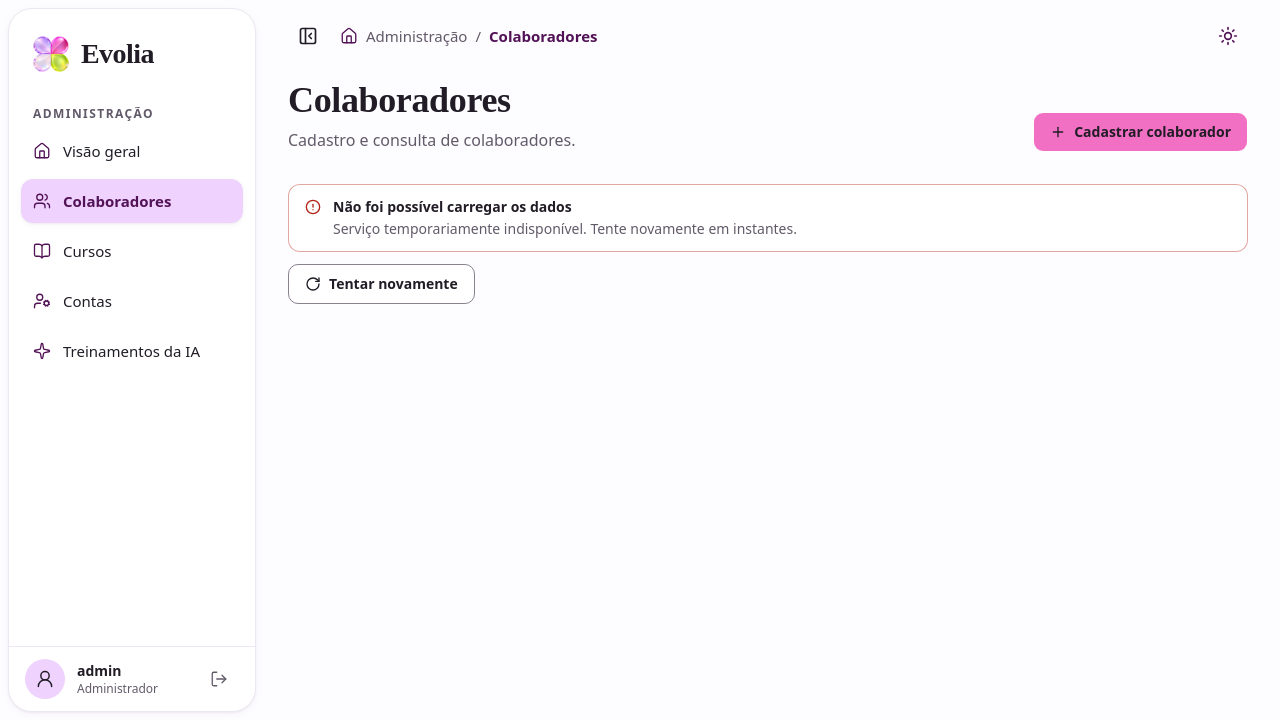
listagem › mostra estado vazio e erro com nova tentativa
Expected: the message shows "temporariamente indisponível", [333, 219, 797, 238]
Click the button "Tentar novamente" at (381, 284), box [288, 264, 475, 304]
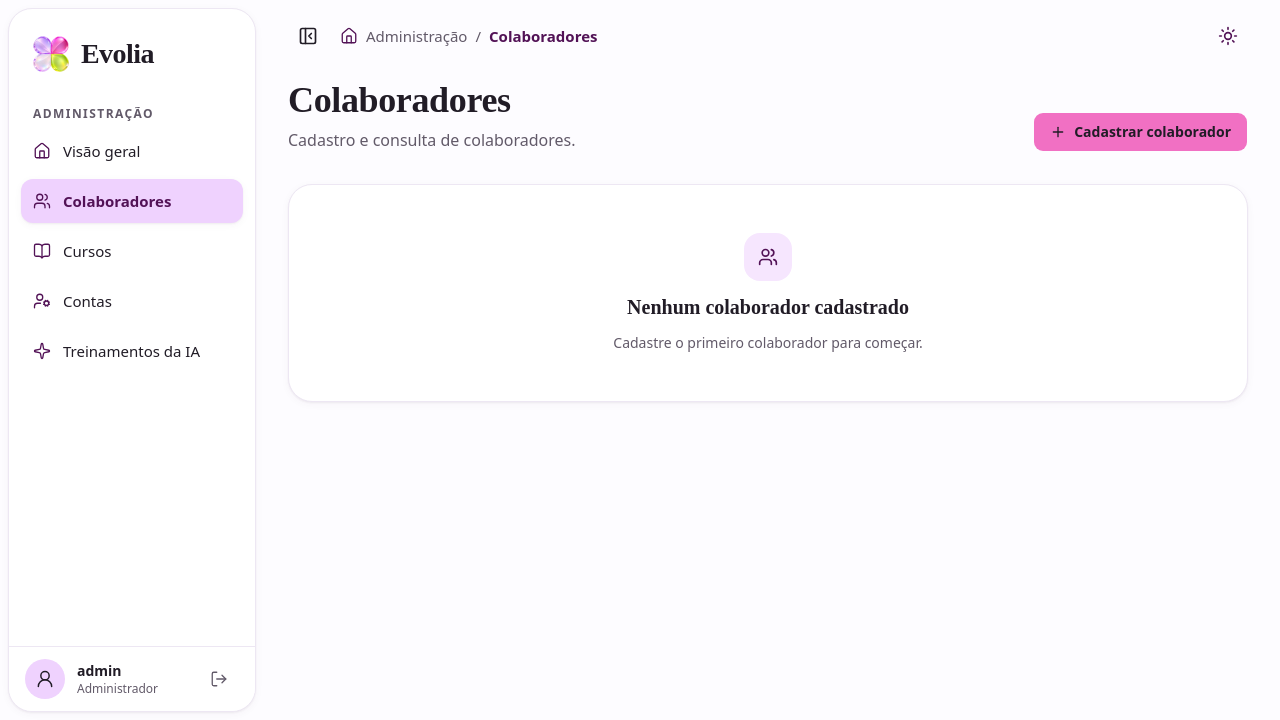
Result: the text "Nenhum colaborador cadastrado" is shown at [627, 293, 909, 321]
